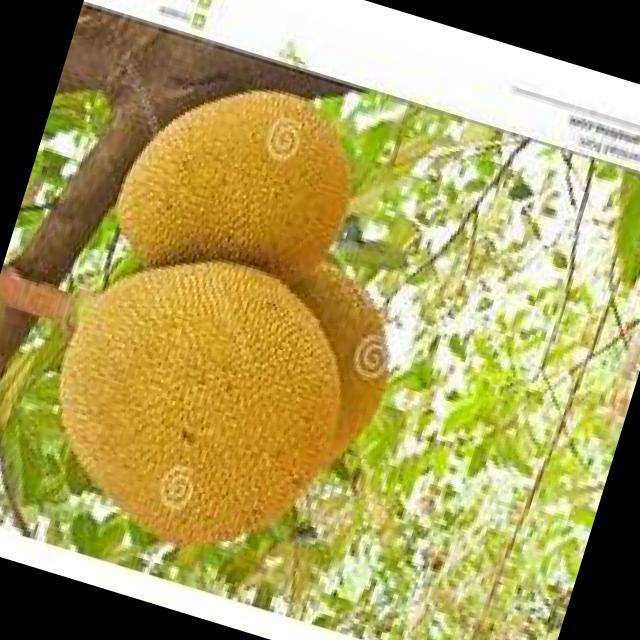Fruit: (0, 188, 425, 618), (70, 29, 412, 358)
